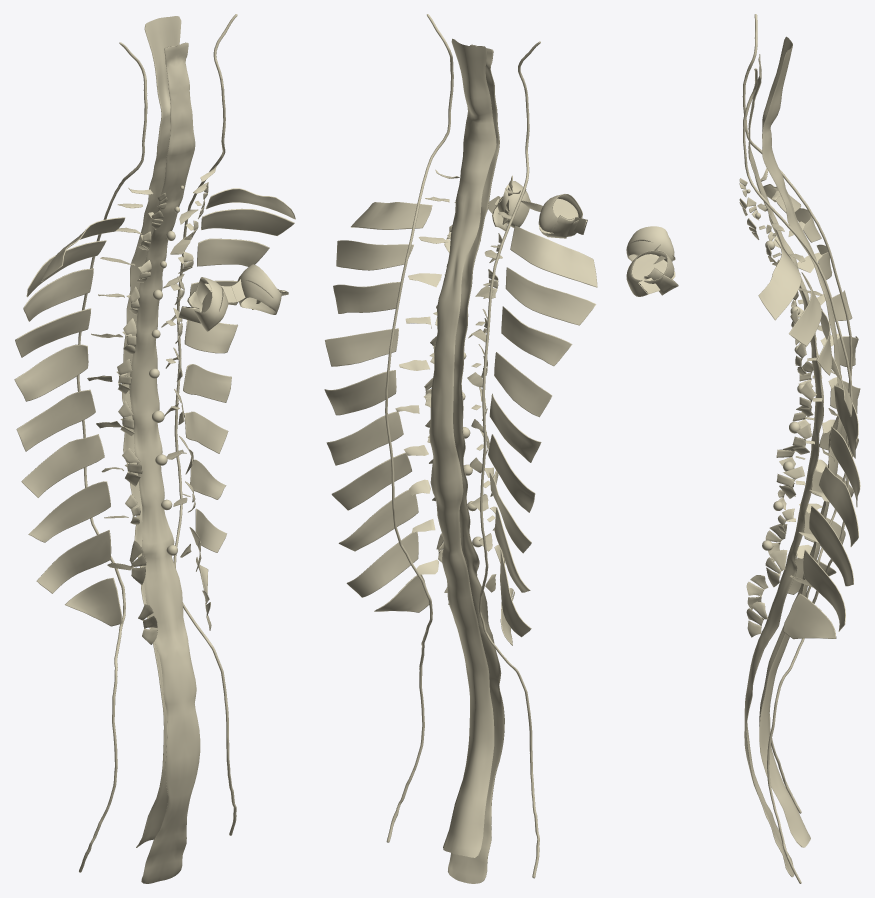
Rendered from joints.thorax.glb.
The picture shows the model from 3 angles, left to right: view 1: azimuth 30°, elevation 25°; view 2: azimuth 150°, elevation 25°; view 3: azimuth 270°, elevation 25°; orthographic projection. The views are drawn at different scales.
Visible parts, largest first — view 1: posterior_longitudinal_ligament, right_internal_intercostal_membrane, left_internal_intercostal_membrane, ligamenta_flava, right_radiate_ligament_of_head_of_rib, left_intertransverse_ligaments, right_intertransverse_ligaments, left_articular_capsule_of_sternoclavicular_joint, left_radiate_ligament_of_head_of_rib, right_costotransverse_ligament, right_articular_capsule_of_sternoclavicular_joint, left_costotransverse_ligament; view 2: ligamenta_flava, left_internal_intercostal_membrane, right_internal_intercostal_membrane, posterior_longitudinal_ligament, right_intertransverse_ligaments, left_intertransverse_ligaments, left_costotransverse_ligament, right_costotransverse_ligament, right_radiate_ligament_of_head_of_rib, left_articular_capsule_of_sternoclavicular_joint, right_articular_capsule_of_sternoclavicular_joint, left_radiate_ligament_of_head_of_rib; view 3: left_internal_intercostal_membrane, ligamenta_flava, posterior_longitudinal_ligament, right_internal_intercostal_membrane, left_radiate_ligament_of_head_of_rib, left_intertransverse_ligaments, right_radiate_ligament_of_head_of_rib, right_intertransverse_ligaments, right_costotransverse_ligament, right_articular_capsule_of_sternoclavicular_joint, left_articular_capsule_of_sternoclavicular_joint, left_costotransverse_ligament (+1 smaller).
Boxes of the visible parts, left/top/right/bottom form: posterior_longitudinal_ligament: left=129, top=42, right=200, bottom=883; right_internal_intercostal_membrane: left=14, top=217, right=125, bottom=626; left_internal_intercostal_membrane: left=183, top=188, right=295, bottom=593; ligamenta_flava: left=122, top=16, right=181, bottom=847; right_radiate_ligament_of_head_of_rib: left=117, top=193, right=167, bottom=644; left_intertransverse_ligaments: left=173, top=14, right=237, bottom=835; right_intertransverse_ligaments: left=76, top=42, right=147, bottom=872; left_articular_capsule_of_sternoclavicular_joint: left=237, top=264, right=281, bottom=314; left_radiate_ligament_of_head_of_rib: left=173, top=182, right=211, bottom=630; right_costotransverse_ligament: left=87, top=187, right=153, bottom=570; right_articular_capsule_of_sternoclavicular_joint: left=191, top=277, right=228, bottom=331; left_costotransverse_ligament: left=161, top=166, right=216, bottom=557; ligamenta_flava: left=429, top=38, right=496, bottom=857; left_internal_intercostal_membrane: left=324, top=202, right=432, bottom=612; right_internal_intercostal_membrane: left=488, top=225, right=597, bottom=645; posterior_longitudinal_ligament: left=448, top=44, right=504, bottom=883; right_intertransverse_ligaments: left=478, top=41, right=540, bottom=878; left_intertransverse_ligaments: left=385, top=14, right=453, bottom=842; left_costotransverse_ligament: left=395, top=169, right=459, bottom=574; right_costotransverse_ligament: left=467, top=188, right=520, bottom=592; right_radiate_ligament_of_head_of_rib: left=478, top=175, right=514, bottom=600; left_articular_capsule_of_sternoclavicular_joint: left=494, top=181, right=530, bottom=228; right_articular_capsule_of_sternoclavicular_joint: left=538, top=194, right=582, bottom=236; left_radiate_ligament_of_head_of_rib: left=424, top=225, right=452, bottom=604; left_internal_intercostal_membrane: left=758, top=239, right=860, bottom=639; ligamenta_flava: left=759, top=36, right=842, bottom=847; posterior_longitudinal_ligament: left=744, top=54, right=823, bottom=877; right_internal_intercostal_membrane: left=763, top=184, right=860, bottom=594; left_radiate_ligament_of_head_of_rib: left=739, top=198, right=816, bottom=637; left_intertransverse_ligaments: left=743, top=68, right=852, bottom=883; right_radiate_ligament_of_head_of_rib: left=739, top=178, right=813, bottom=609; right_intertransverse_ligaments: left=742, top=14, right=852, bottom=813; right_costotransverse_ligament: left=760, top=168, right=841, bottom=558; right_articular_capsule_of_sternoclavicular_joint: left=626, top=226, right=674, bottom=261; left_articular_capsule_of_sternoclavicular_joint: left=626, top=250, right=674, bottom=296; left_costotransverse_ligament: left=757, top=203, right=840, bottom=587.
Size of the model in its own units: 0.1807 by 0.5606 by 0.1431.
